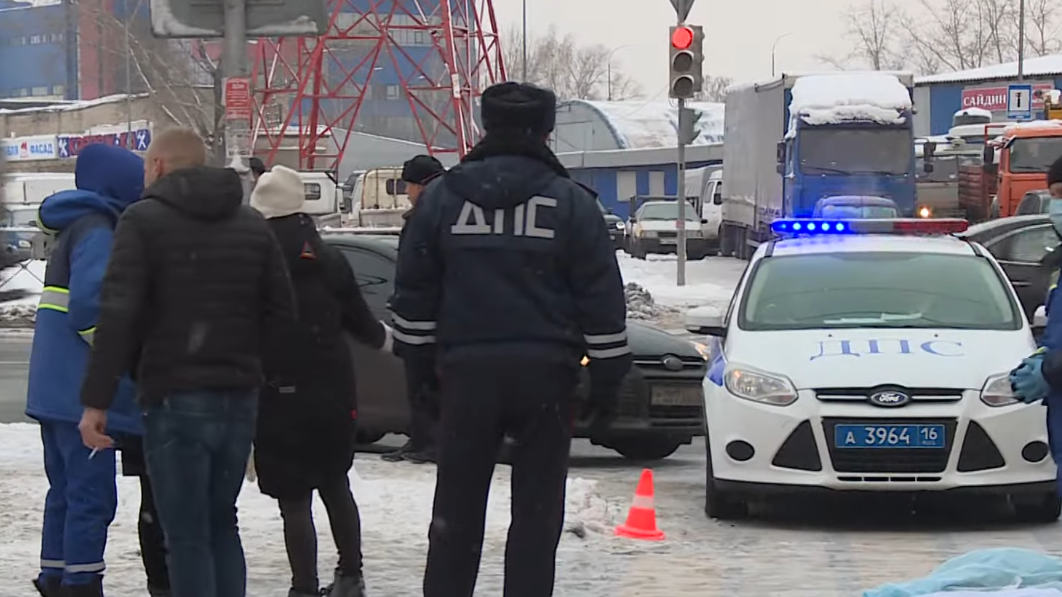non emergency car: (719, 80, 917, 250), (956, 125, 1060, 222), (626, 198, 704, 264)
police car: (707, 214, 1057, 516)
